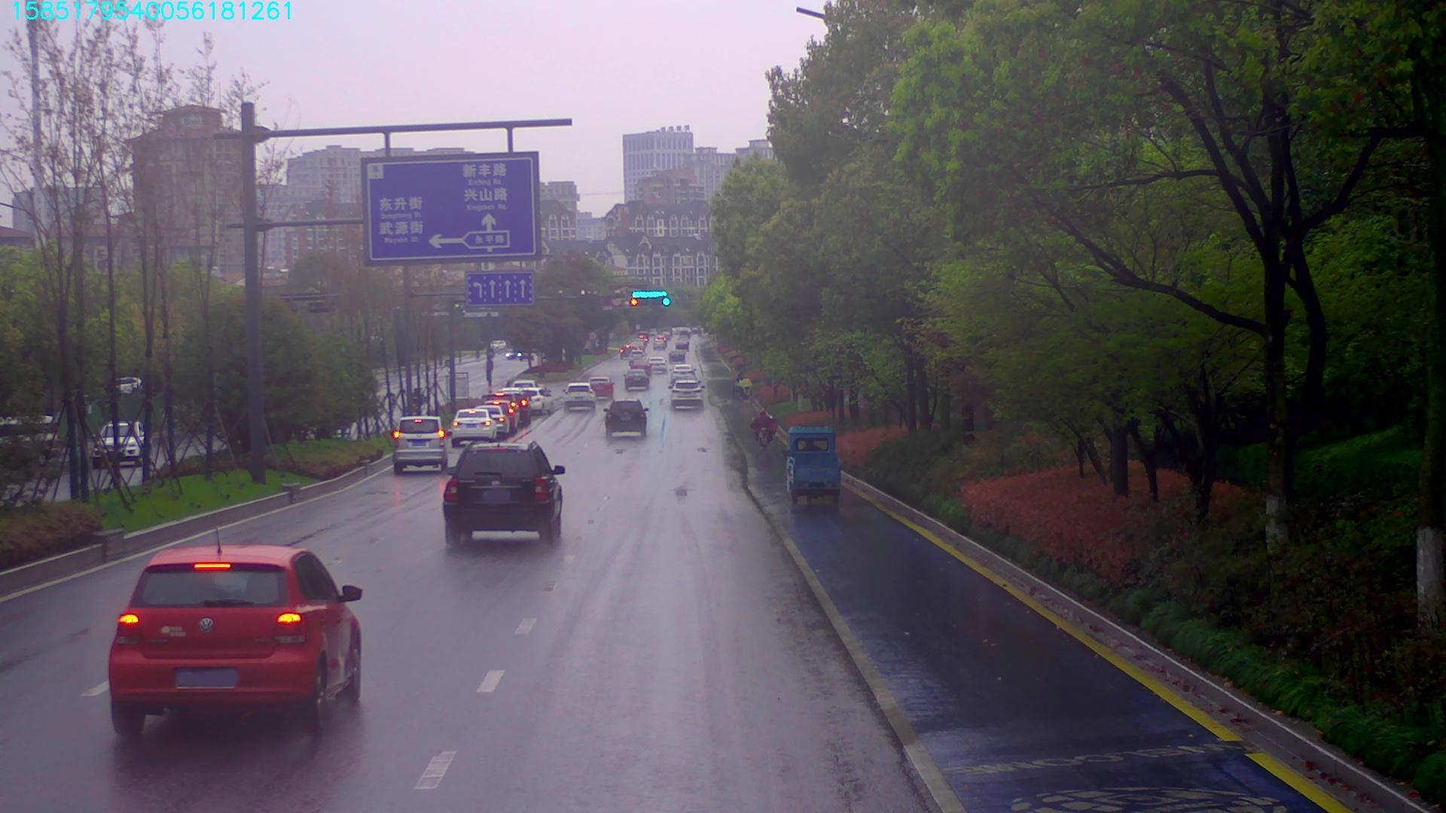green: (651, 299, 673, 310)
red: (632, 294, 646, 306)
wait_on: (627, 288, 663, 299)
